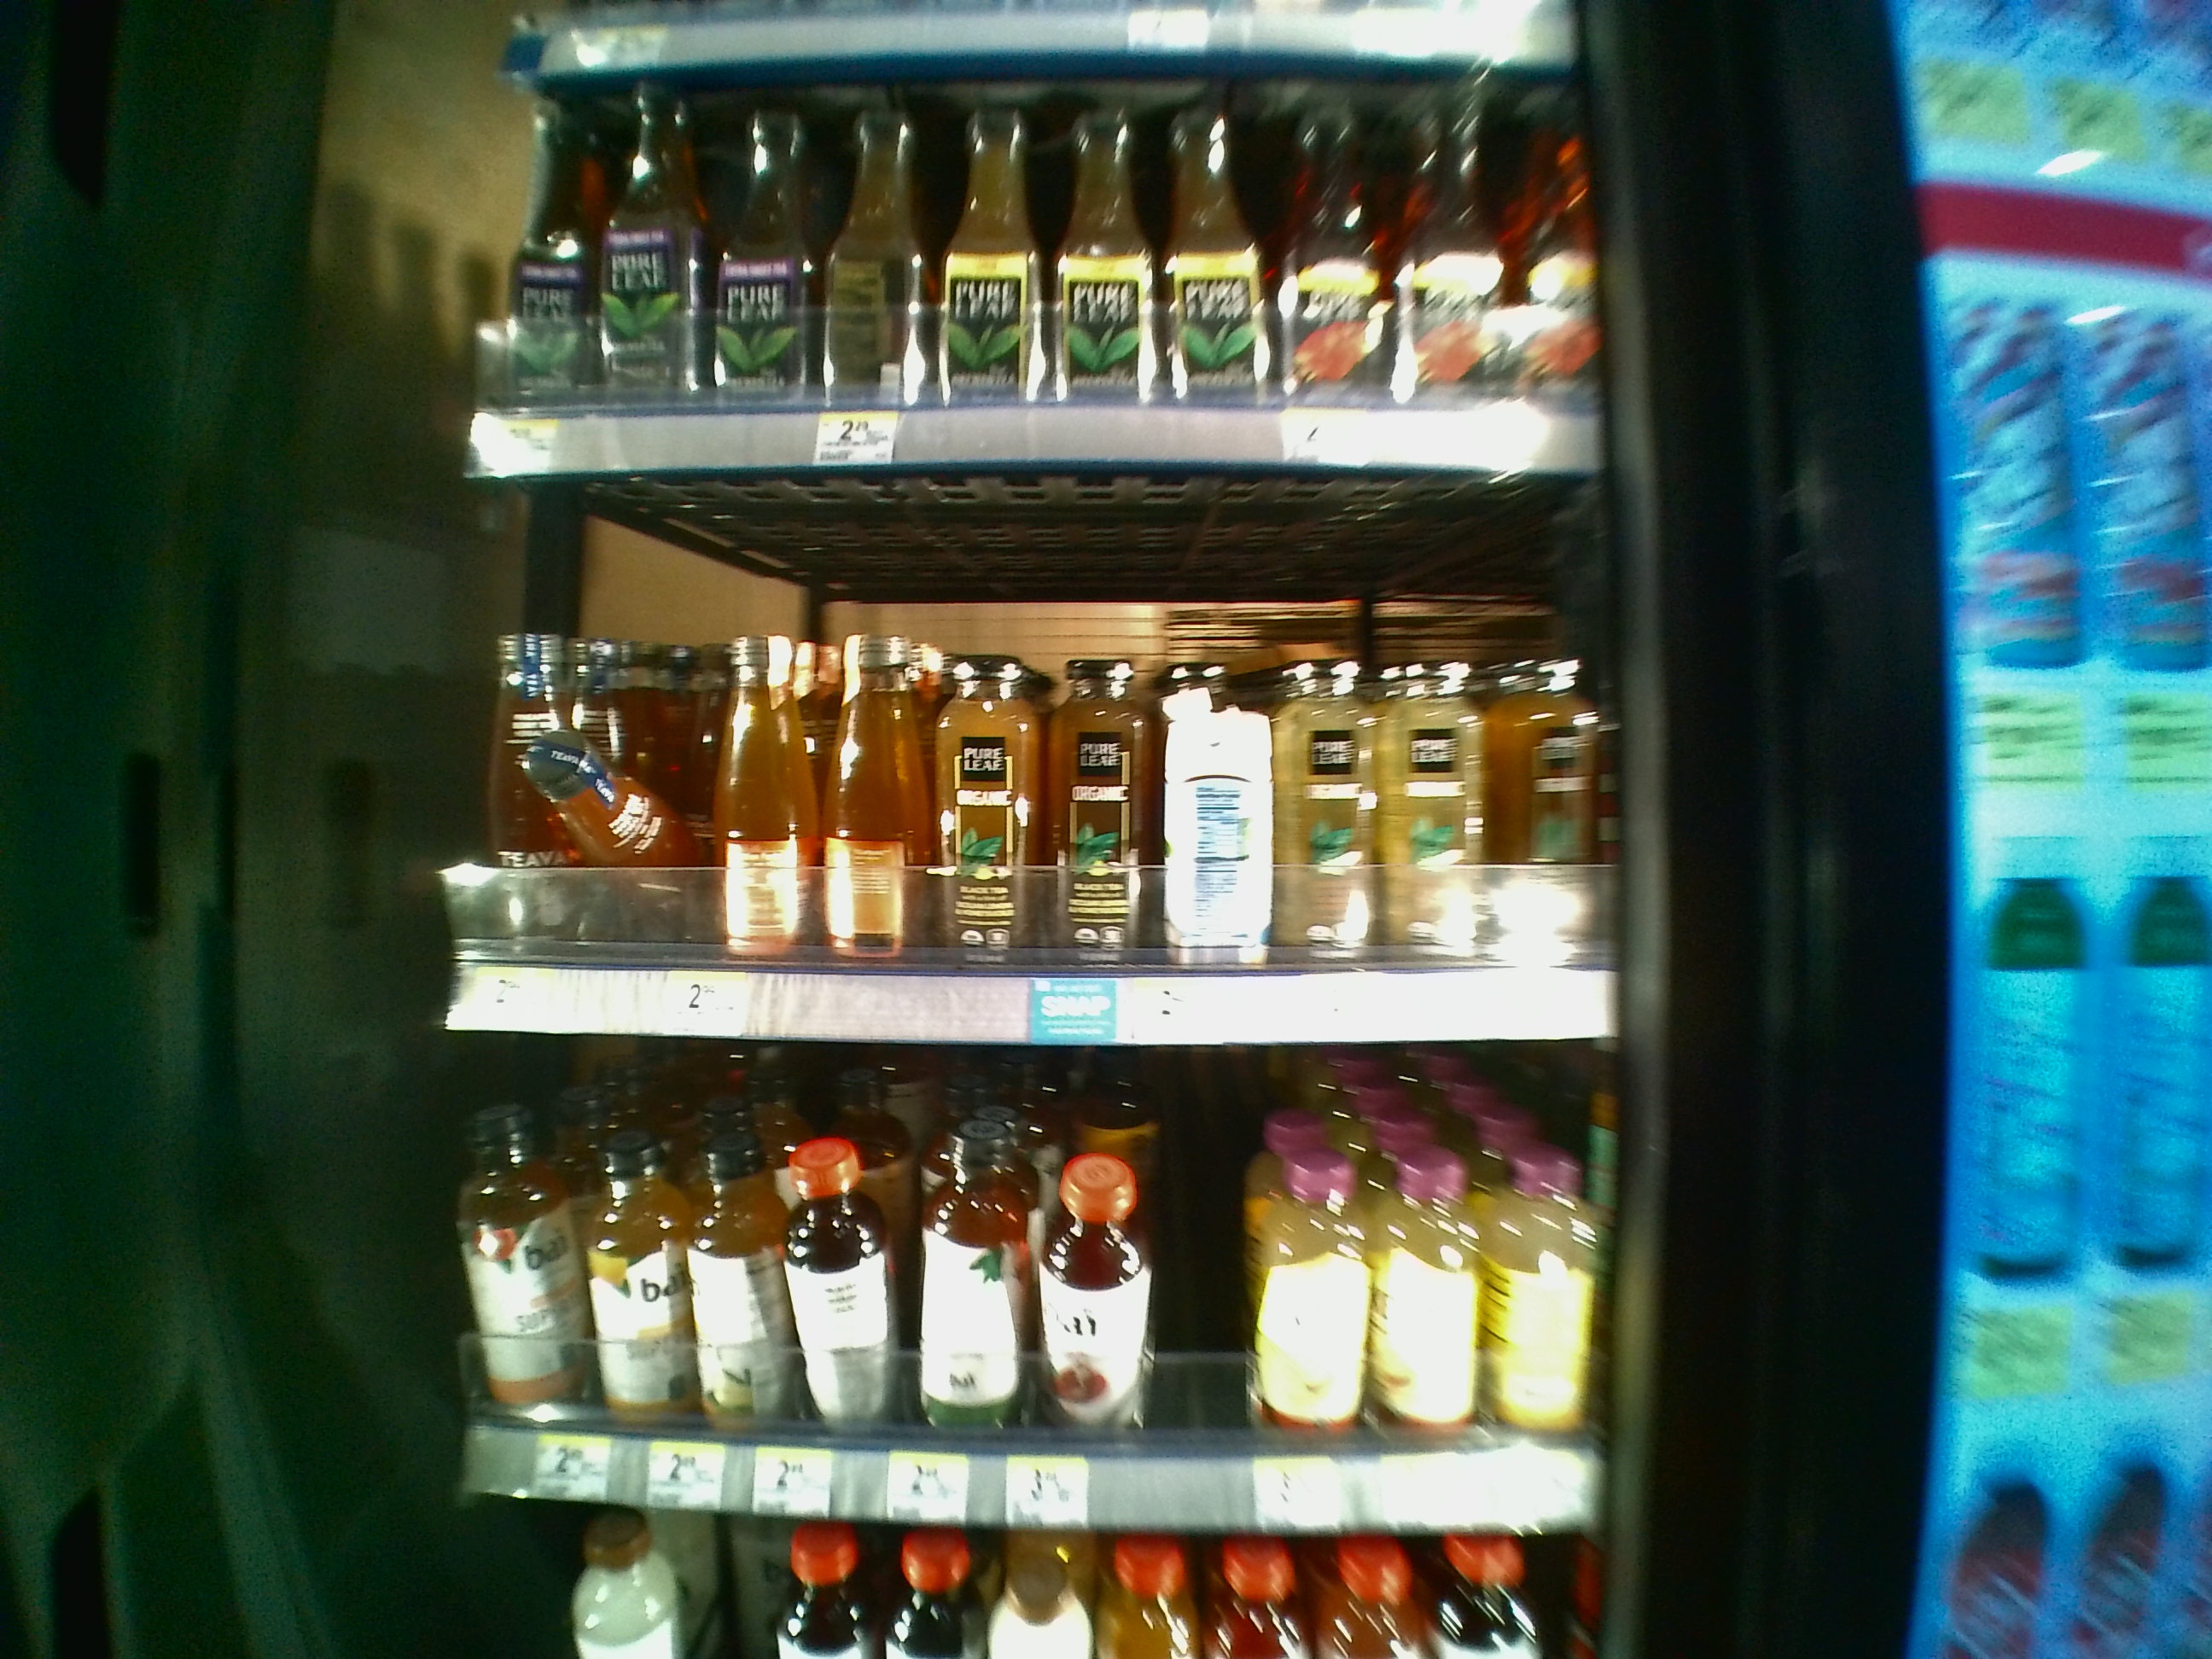shelf: (446, 488, 1623, 1037), (449, 1044, 1623, 1492), (456, 73, 1604, 476)
